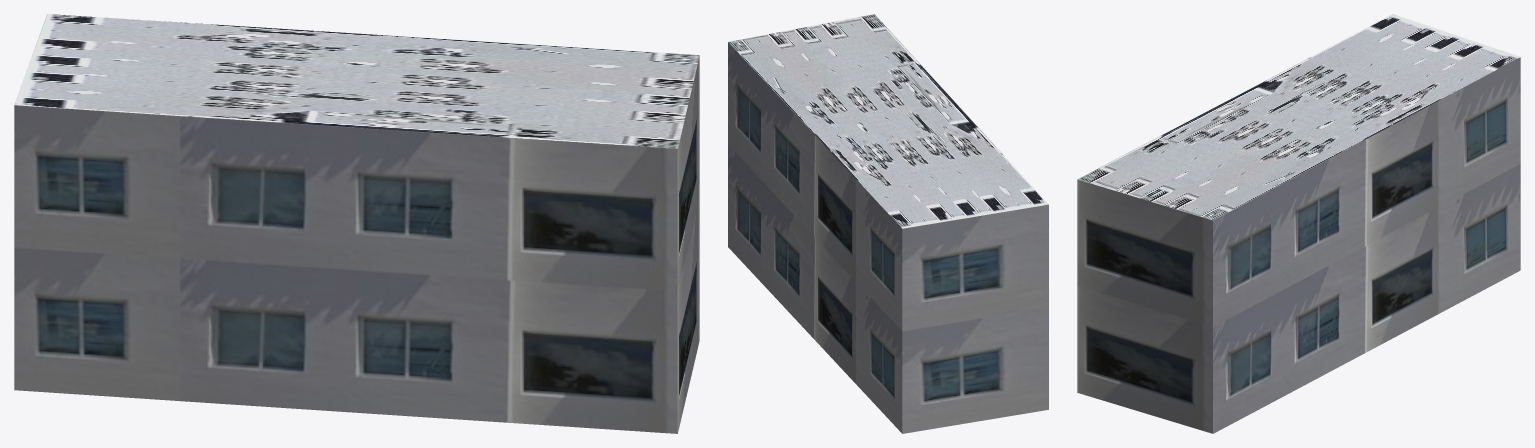
The model's file is ResTex__1024.fbx.
3 renders of one model, left to right at view 1: azimuth 30°, elevation 25°; view 2: azimuth 150°, elevation 25°; view 3: azimuth 270°, elevation 25°, orthographic. The views are drawn at different scales.
Visible parts, largest first — view 1: CityEngineMaterial_10_m, CityEngineMaterial_8_m; view 2: CityEngineMaterial_10_m, CityEngineMaterial_8_m; view 3: CityEngineMaterial_10_m, CityEngineMaterial_8_m.
Boxes of the visible parts, left/top/right/bottom form: CityEngineMaterial_10_m: left=14, top=56, right=699, bottom=433; CityEngineMaterial_8_m: left=14, top=14, right=699, bottom=148; CityEngineMaterial_10_m: left=728, top=42, right=1048, bottom=433; CityEngineMaterial_8_m: left=728, top=14, right=1048, bottom=228; CityEngineMaterial_10_m: left=1077, top=57, right=1520, bottom=433; CityEngineMaterial_8_m: left=1078, top=14, right=1520, bottom=220.
Size of the model in its own units: 12.46 by 6 by 11.3.
2 materials, 2 textured.
